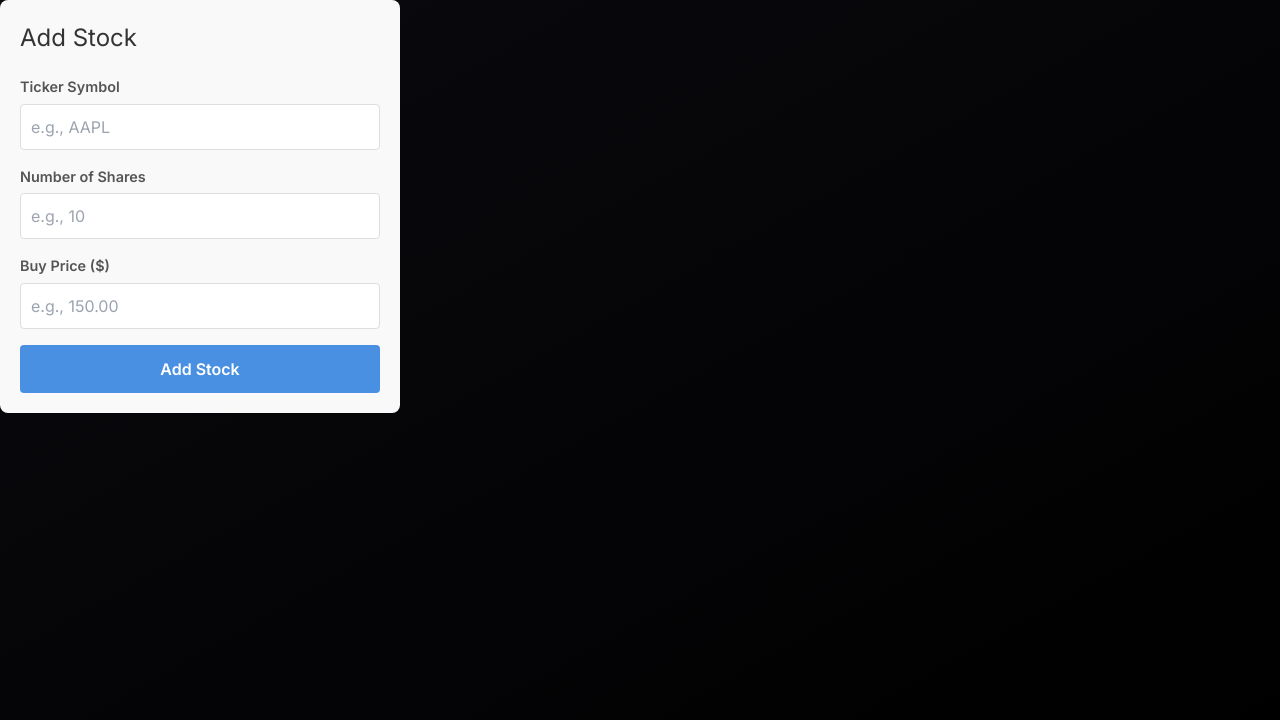
AddStockForm › Validation - Empty Fields (Requirement 4.1) › should show error when shares is empty
Type "AAPL" into the field labelled "Ticker Symbol". click: (200, 127)
box: [20,104,380,150]
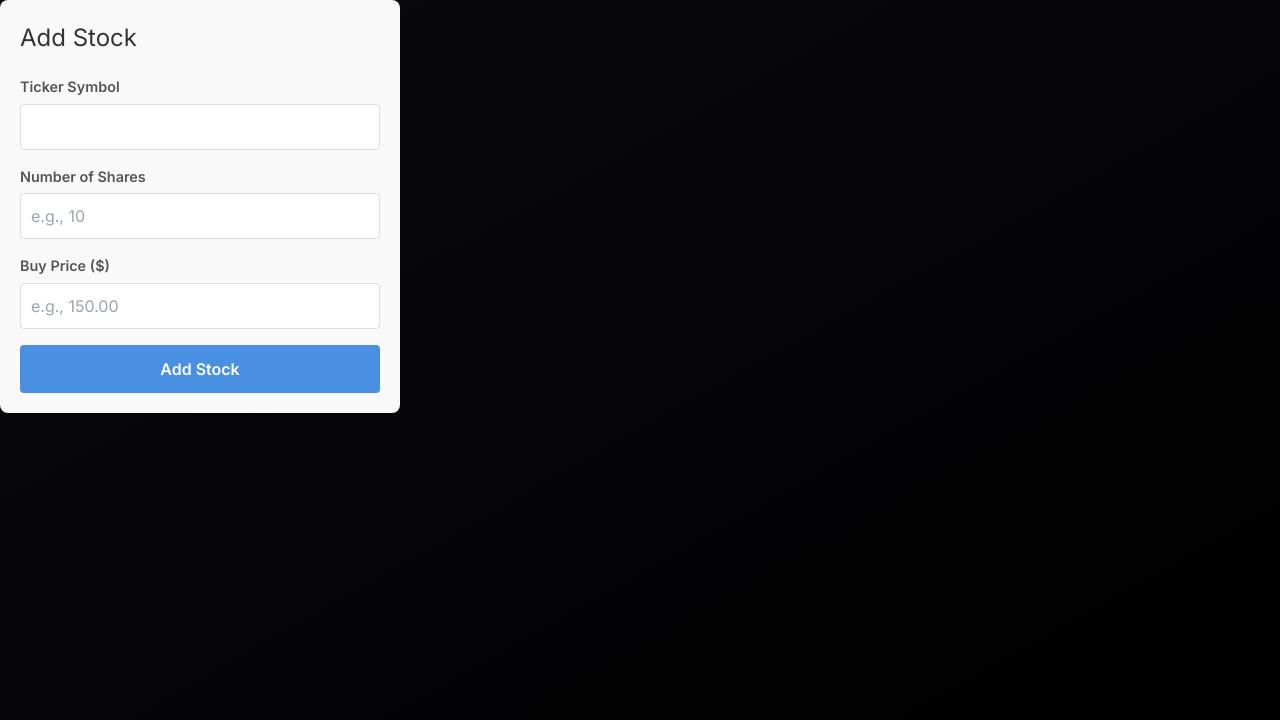
Click the button "Add Stock". click: (200, 369)
box: [20,345,380,393]
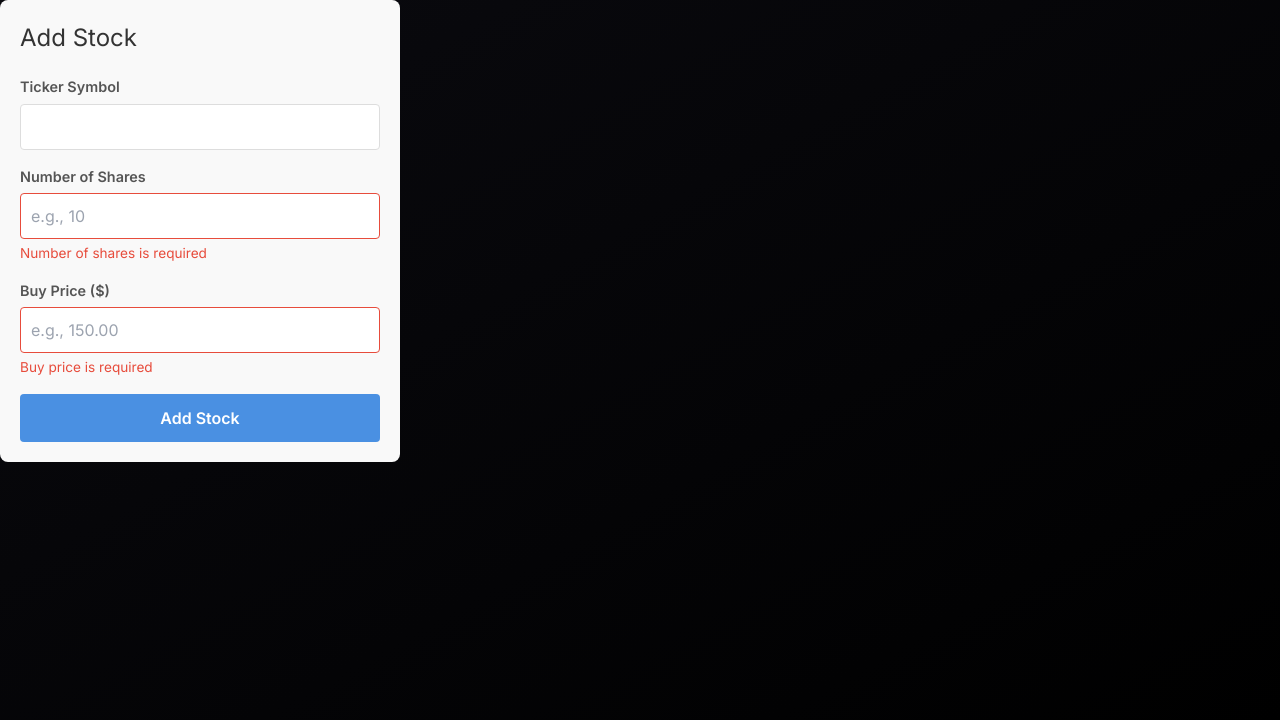
Expected: the text "Number of shares is required" is shown, [20,245,207,261]
